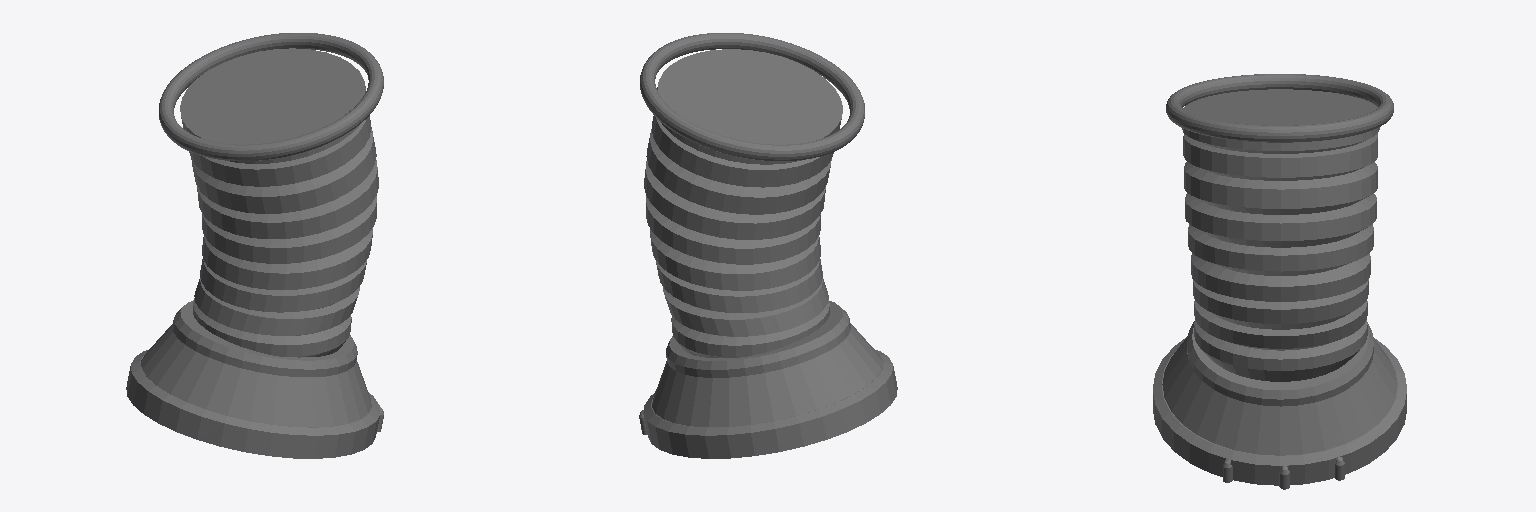
File: trasera_izq.obj
The picture shows the model from 3 angles: view 1: azimuth 30°, elevation 25°; view 2: azimuth 150°, elevation 25°; view 3: azimuth 270°, elevation 25°; orthographic projection.
Parts seen in each view (by area): view 1: C_rculo_005_C_rculo_006, C_rculo_018_C_rculo_019, C_rculo_019_C_rculo_020, C_rculo_002, C_rculo_017_C_rculo_018; view 2: C_rculo_005_C_rculo_006, C_rculo_018_C_rculo_019, C_rculo_019_C_rculo_020, C_rculo_002, C_rculo_017_C_rculo_018; view 3: C_rculo_005_C_rculo_006, C_rculo_018_C_rculo_019, C_rculo_019_C_rculo_020, C_rculo_002, C_rculo_017_C_rculo_018, Cilindro_004_Cilindro_007.
Part boxes in pixels (x1,y1,x2,y2): C_rculo_005_C_rculo_006: (180, 48, 378, 357); C_rculo_018_C_rculo_019: (141, 324, 371, 426); C_rculo_019_C_rculo_020: (126, 350, 380, 458); C_rculo_002: (159, 33, 383, 160); C_rculo_017_C_rculo_018: (172, 300, 357, 376); C_rculo_005_C_rculo_006: (644, 49, 842, 357); C_rculo_018_C_rculo_019: (652, 324, 882, 426); C_rculo_019_C_rculo_020: (643, 350, 897, 458); C_rculo_002: (640, 33, 864, 160); C_rculo_017_C_rculo_018: (666, 301, 850, 377); C_rculo_005_C_rculo_006: (1182, 89, 1379, 381); C_rculo_018_C_rculo_019: (1162, 336, 1397, 455); C_rculo_019_C_rculo_020: (1153, 337, 1406, 485); C_rculo_002: (1166, 74, 1393, 142); C_rculo_017_C_rculo_018: (1187, 321, 1373, 406); Cilindro_004_Cilindro_007: (1223, 457, 1344, 489).
Size of the model in its own units: 1.05 by 1.62 by 1.03.